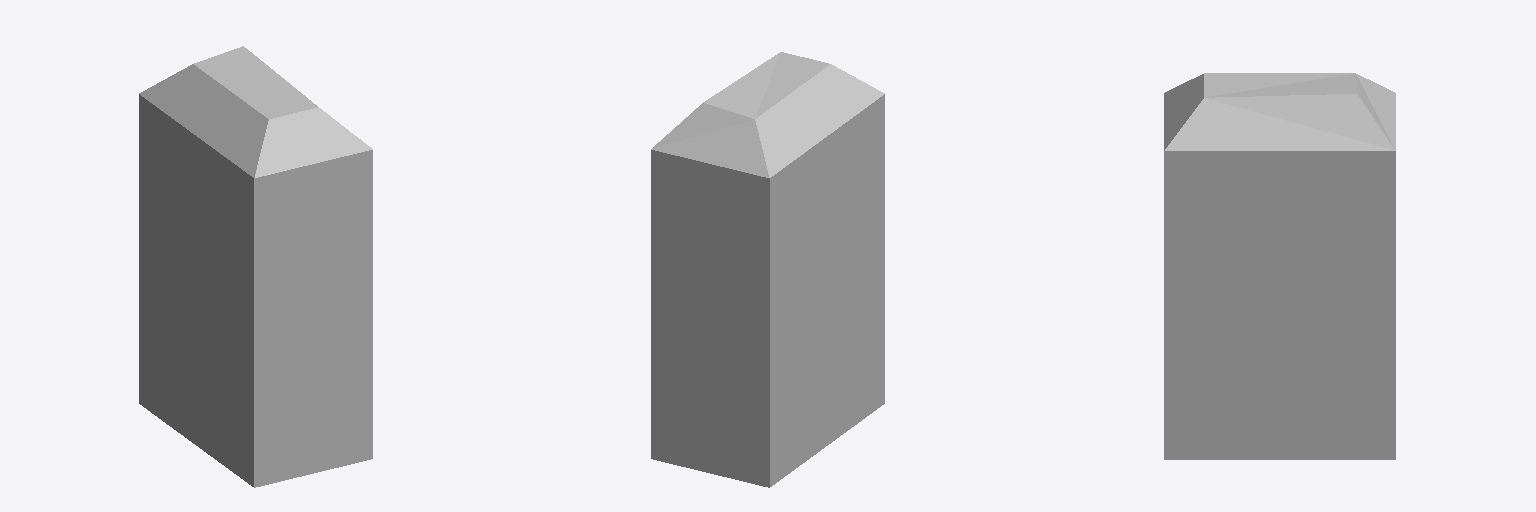
Rendered from door.obj.
3 views of the same model, side by side, from view 1: azimuth 30°, elevation 25°; view 2: azimuth 150°, elevation 25°; view 3: azimuth 270°, elevation 25° (orthographic).
Parts seen in each view (by area): view 1: 立方体; view 2: 立方体; view 3: 立方体.
Boxes of the visible parts, box(x1,y1,x2,y2) form: 立方体: box(139, 46, 372, 487); 立方体: box(651, 52, 884, 487); 立方体: box(1164, 73, 1395, 459).
Bounding box in the file's own units: 0.9162 × 2.58 × 1.54.